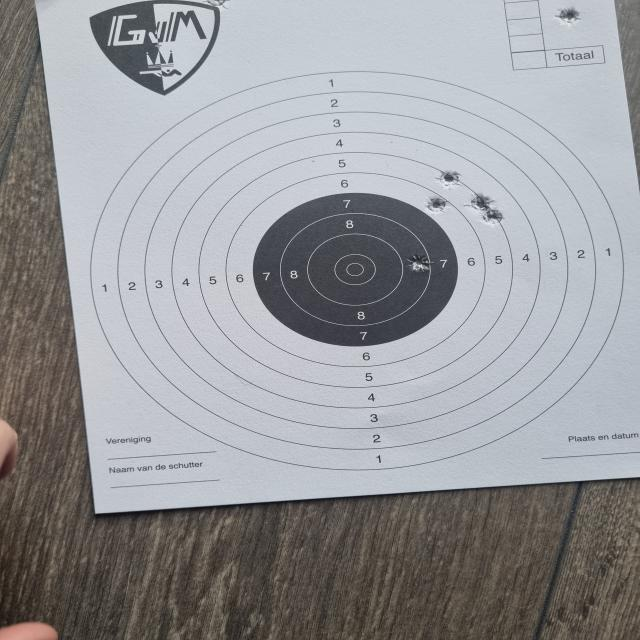0: (554, 8, 582, 28), (202, 0, 230, 9)
5: (464, 194, 495, 211), (434, 171, 462, 186), (483, 210, 506, 223)
6: (426, 198, 449, 212)
8: (406, 256, 434, 272)
Target: (96, 67, 626, 474)
black_contour: (250, 192, 458, 347)
